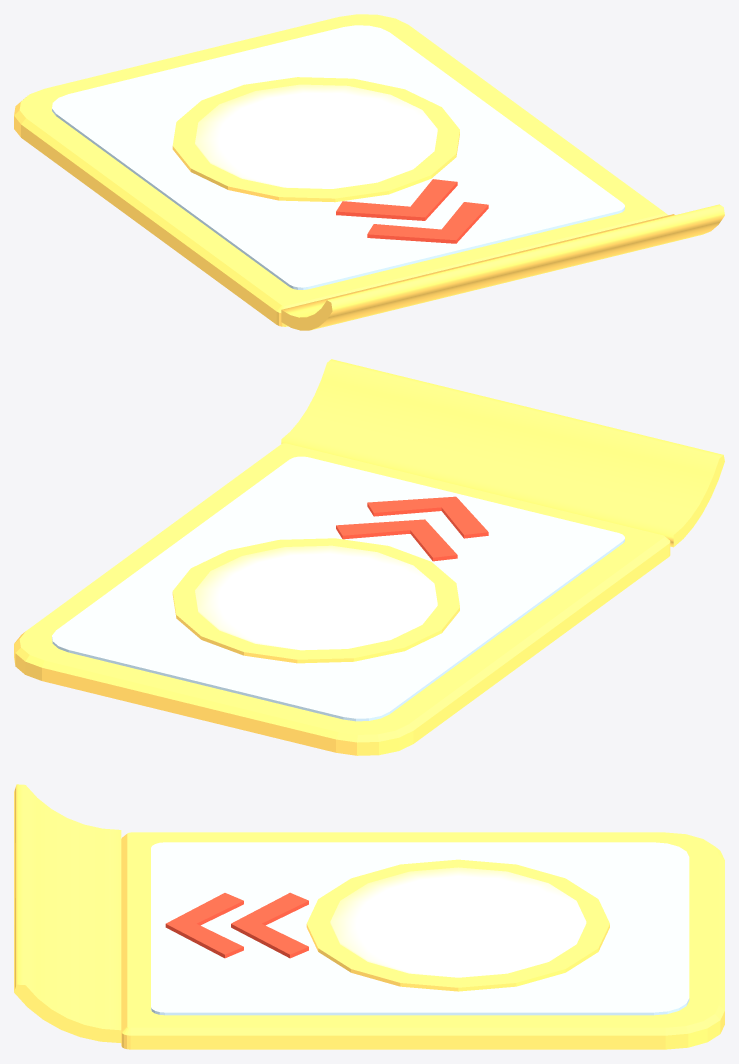
File: jump-pad.glb
The picture shows the model from 3 angles, top to bottom: view 1: azimuth 30°, elevation 25°; view 2: azimuth 150°, elevation 25°; view 3: azimuth 270°, elevation 25°; orthographic projection. The views are drawn at different scales.
Visible parts, largest first — view 1: jump-pad; view 2: jump-pad; view 3: jump-pad.
Boxes of the visible parts, x1,y1,x2,y2 form: jump-pad: (14,14,724,330); jump-pad: (14,359,724,755); jump-pad: (14,784,724,1049).
Bounding box in the file's own units: 4 × 0.6049 × 6.
